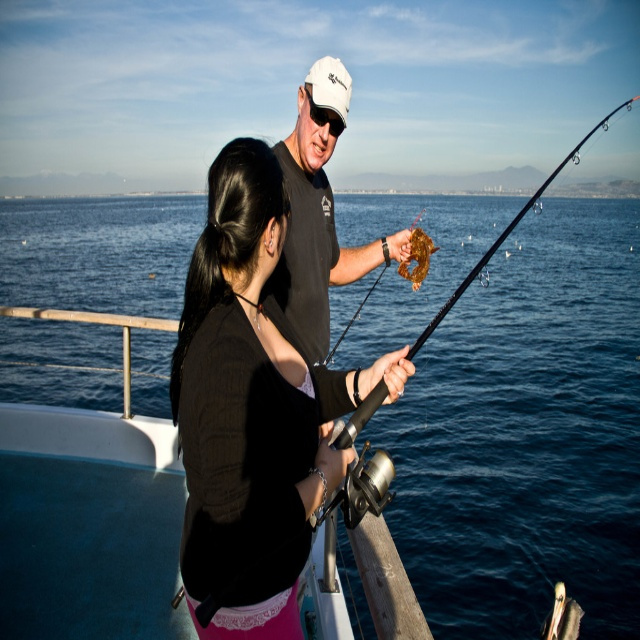Fish: (396, 227, 440, 293)
